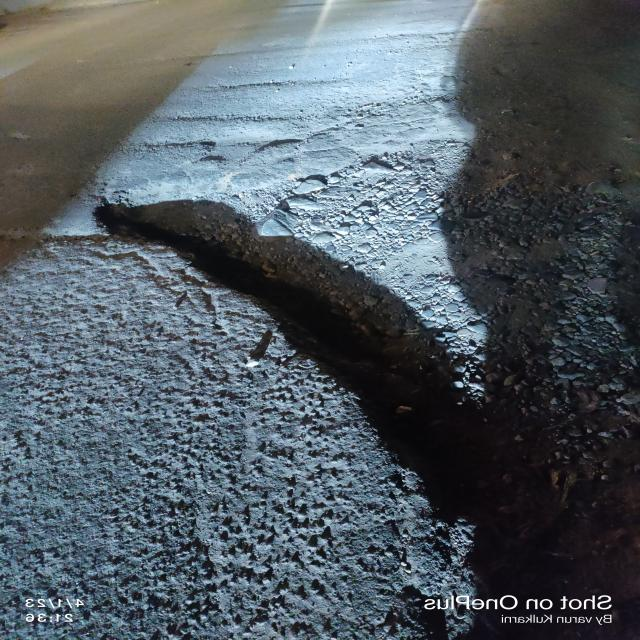potholes: (85, 196, 640, 602)
